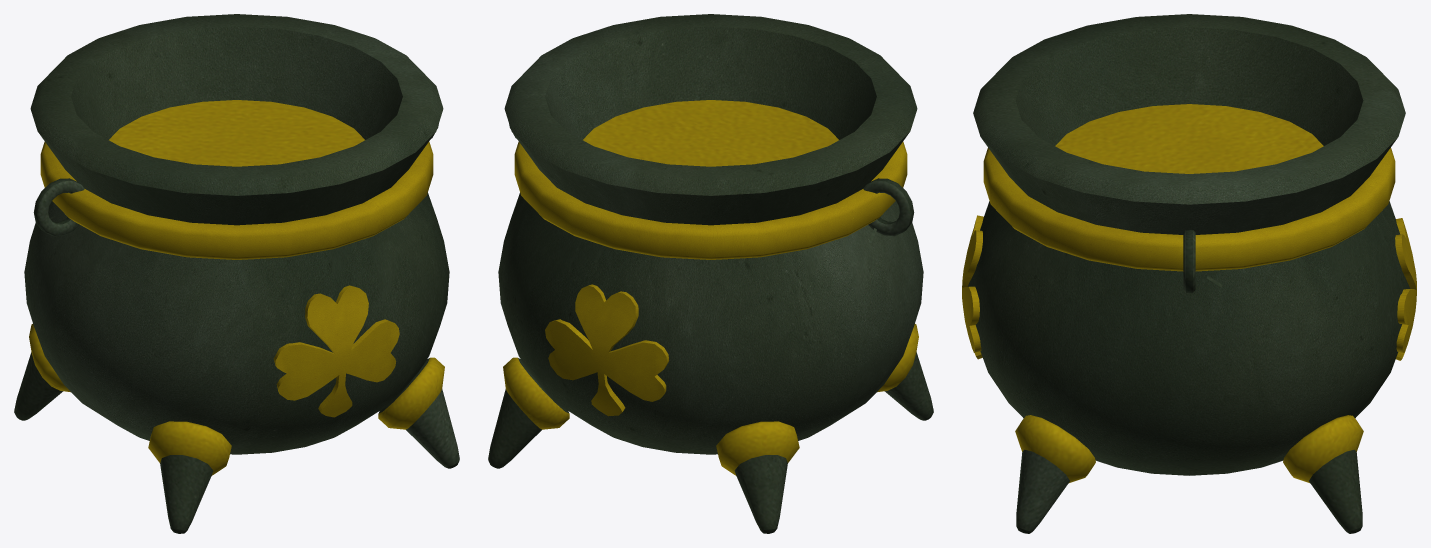
The model's file is Magical_Pot.fbx.
3 views of the same model, side by side, from view 1: azimuth 30°, elevation 25°; view 2: azimuth 150°, elevation 25°; view 3: azimuth 270°, elevation 25° (orthographic). The views are drawn at different scales.
Visible parts, largest first — view 1: Magical_Pot; view 2: Magical_Pot; view 3: Magical_Pot.
Boxes of the visible parts, x1,y1,x2,y2 form: Magical_Pot: (14, 14, 459, 533); Magical_Pot: (488, 14, 933, 533); Magical_Pot: (962, 14, 1416, 533).
Bounding box in the file's own units: 159 × 131 × 148.
